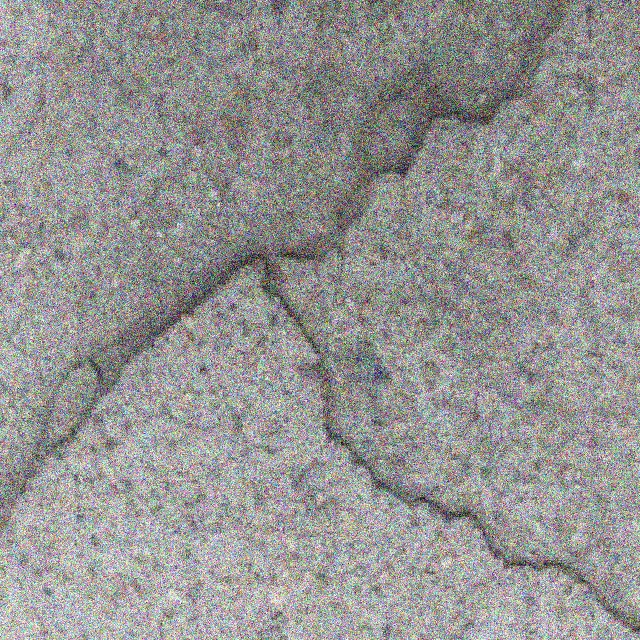SurfaceCrack: (4, 6, 640, 640)
